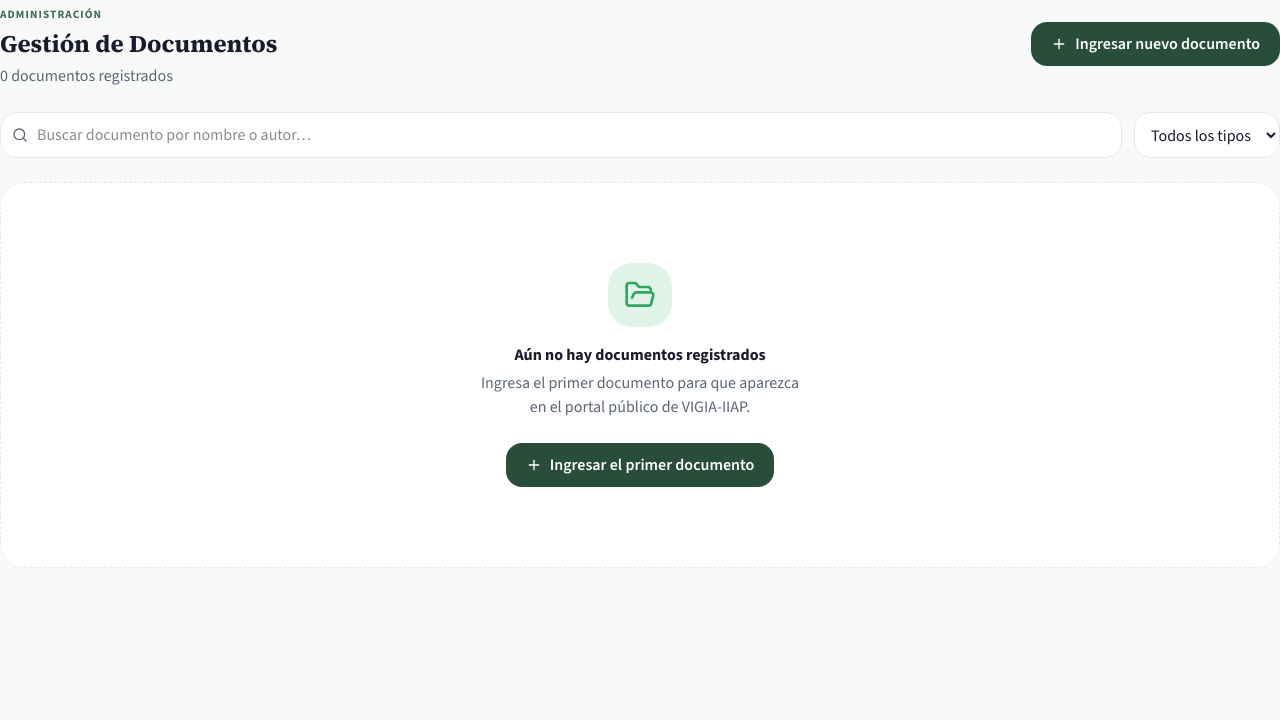
GestionDocumentos — validación del formulario › nombre, categoría y archivo son obligatorios al crear
Step 1. Click the button "Ingresar nuevo documento" → (1156, 44), box [1031,22,1279,66]
(page scrolled)
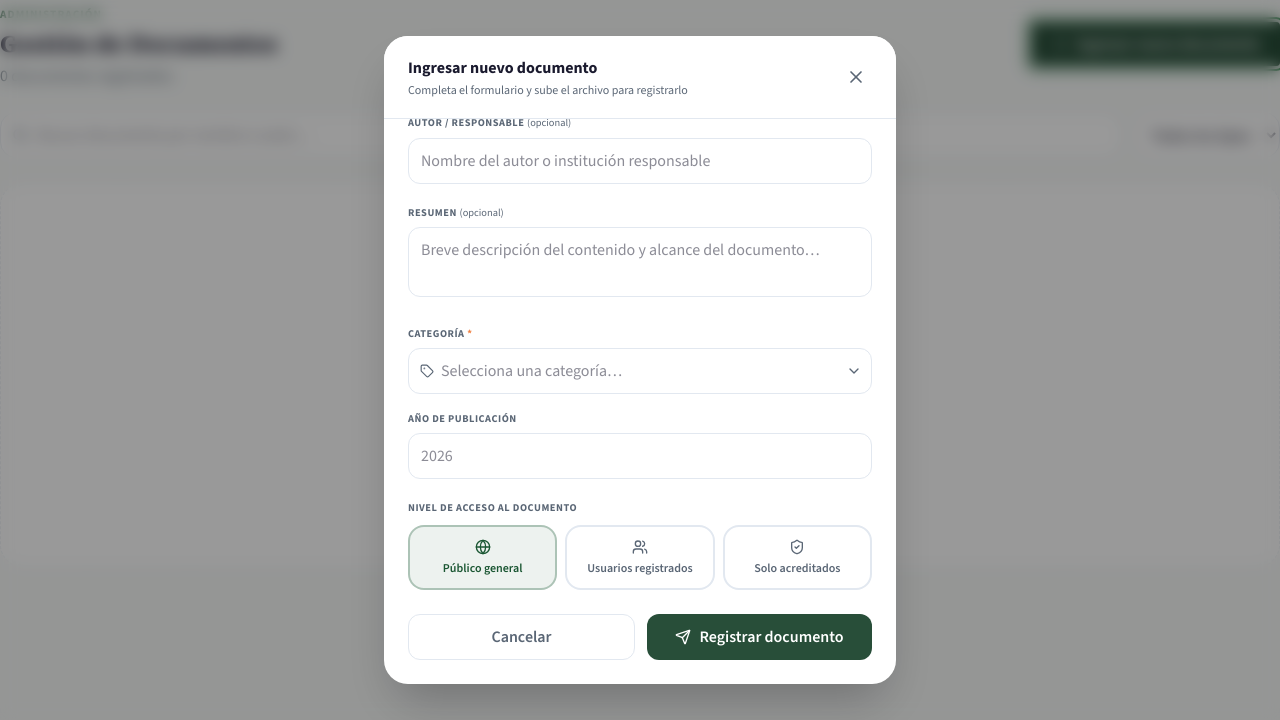
Step 2. Click the button "Registrar documento" → (760, 637), box [647,614,872,660]
(page scrolled)
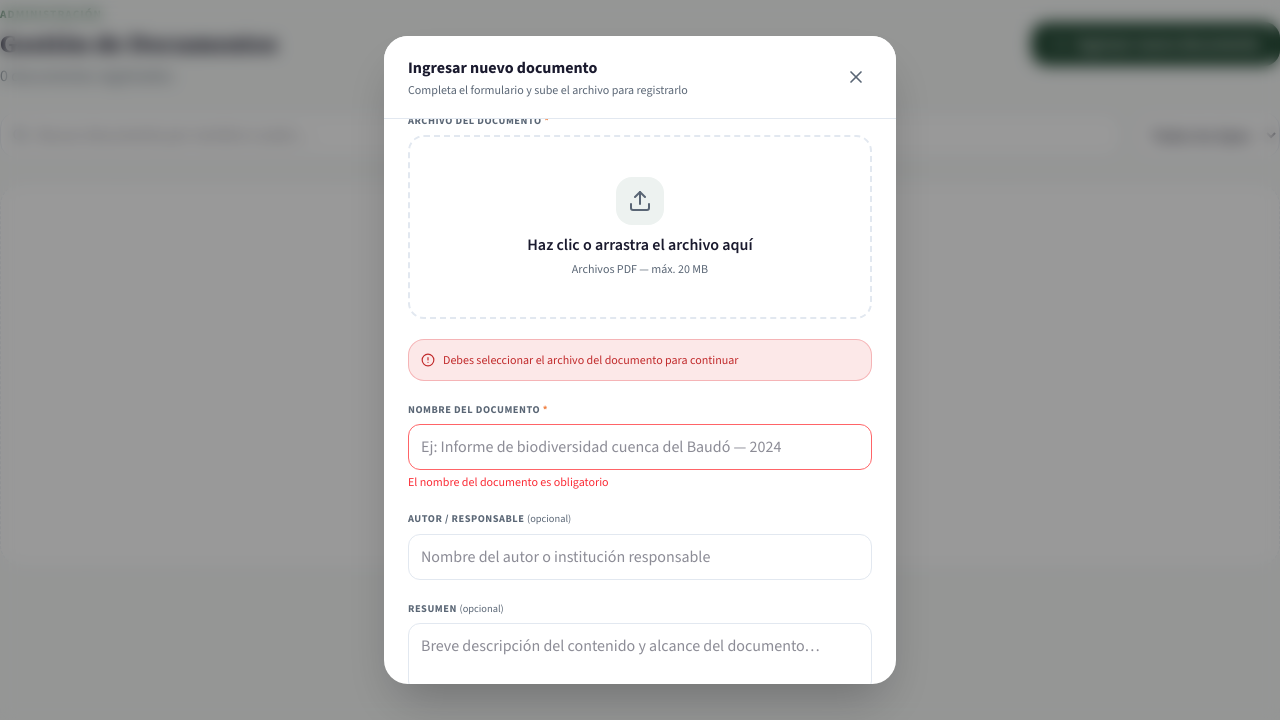
Now the text "El nombre del documento es obligatorio" is shown, box [408,474,609,490]
Now the text "Debes seleccionar el archivo del documento para continuar" is shown, box [408,339,872,381]
